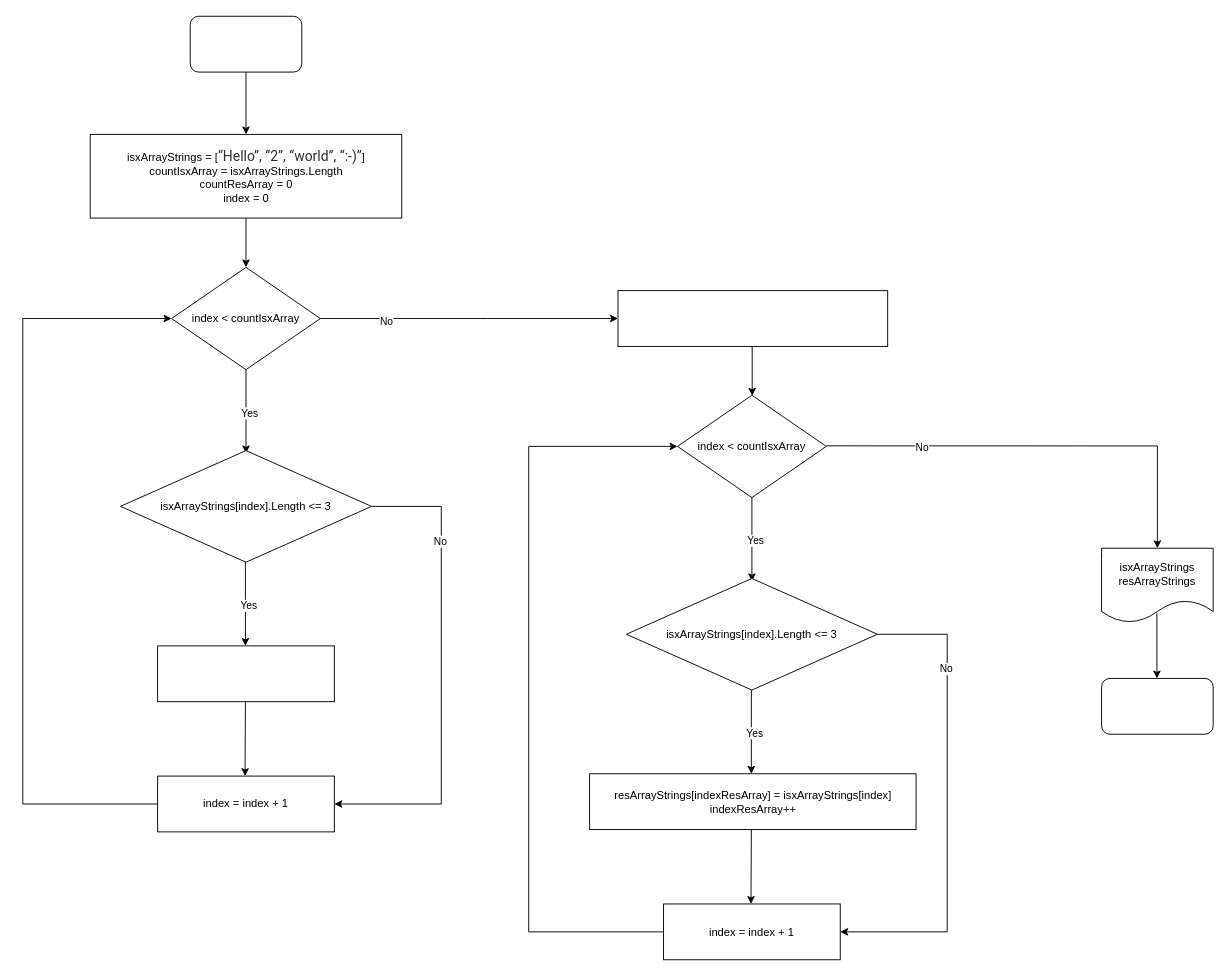
Image size: 1229x977. Some labels were removed from this diagram. Here are the shapes that lost their labels. From the top down, the centre of each, then its label:
At pixel 245 43: "Start".
At pixel 752 318: "resArrayStrings = new string[countResArray] indexResArray = 0".
At pixel 245 673: "countResArray++".
At pixel 1157 706: "Finish".
